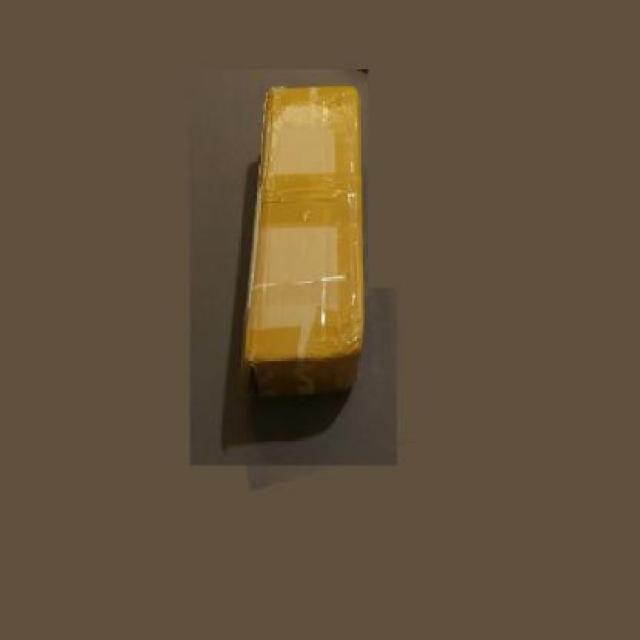cardboxes: (240, 82, 360, 387)
